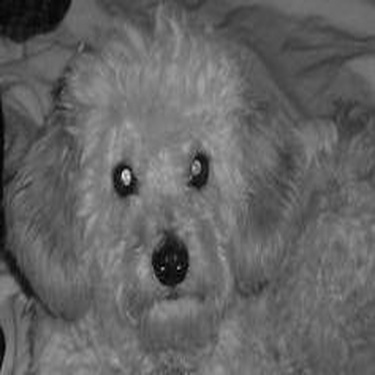dog: (4, 6, 367, 369)
